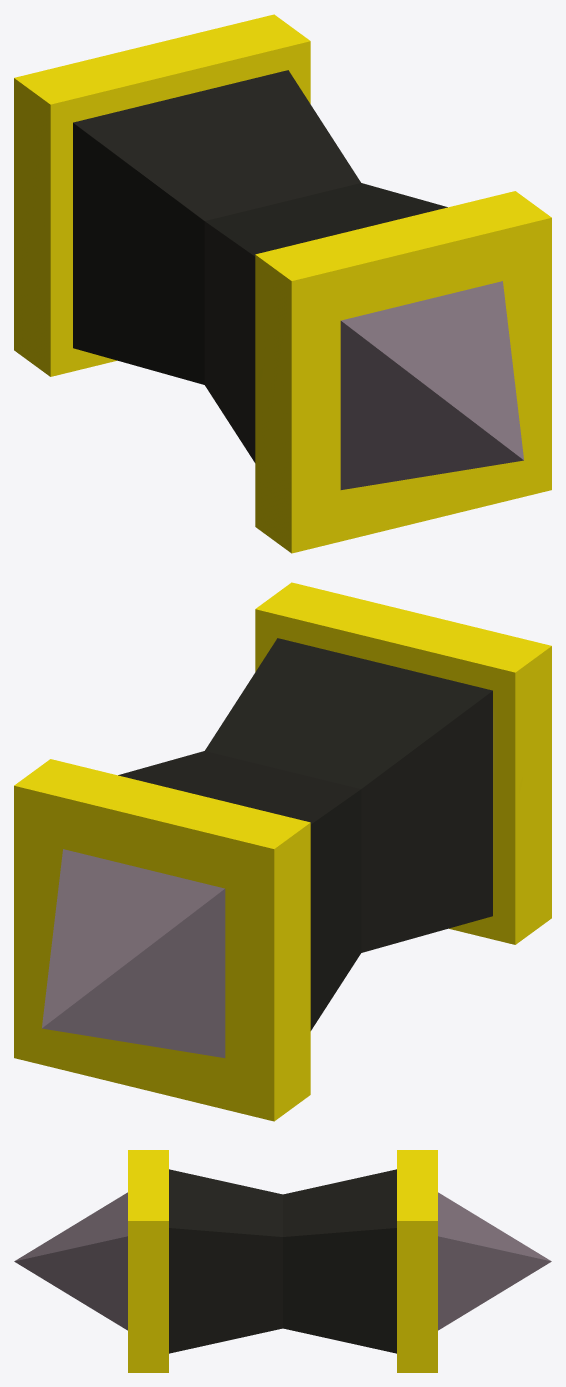
File: needle_arm.obj
3 renders of one model, top to bottom at view 1: azimuth 30°, elevation 25°; view 2: azimuth 150°, elevation 25°; view 3: azimuth 270°, elevation 25°, orthographic. The views are drawn at different scales.
Parts seen in each view (by area): view 1: Arm; view 2: Arm; view 3: Arm.
Part boxes in pixels (x1,y1,x2,y2): Arm: [14, 14, 551, 553]; Arm: [14, 582, 551, 1121]; Arm: [14, 1150, 551, 1372].
Size of the model in its own units: 0.4112 by 0.4112 by 1.32.
1 material, 1 textured.
